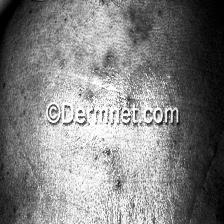Non-Cancerous Skin Condition: (63, 18, 164, 224)
